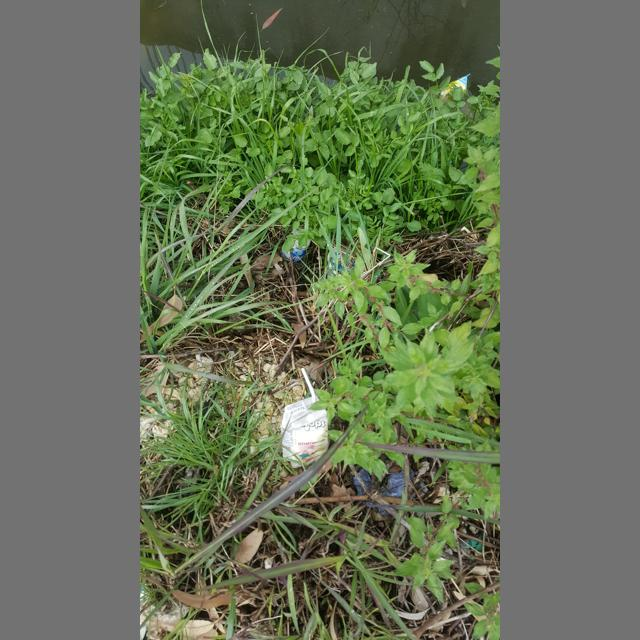litter: (280, 394, 330, 468), (352, 466, 415, 514), (438, 74, 471, 112), (281, 228, 311, 262), (327, 247, 354, 277), (301, 367, 316, 402), (290, 229, 311, 247)
